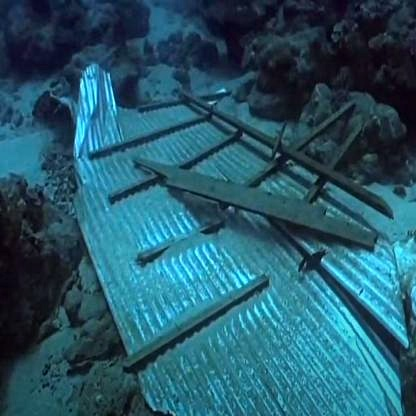metal: (66, 87, 416, 416)
